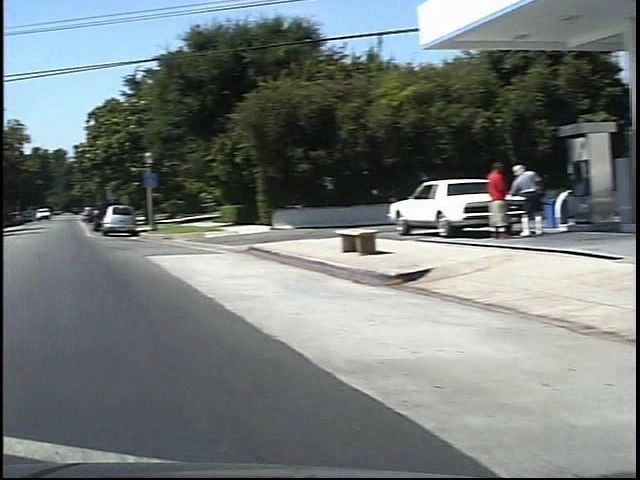person: (493, 160, 534, 242), (465, 157, 495, 242)
